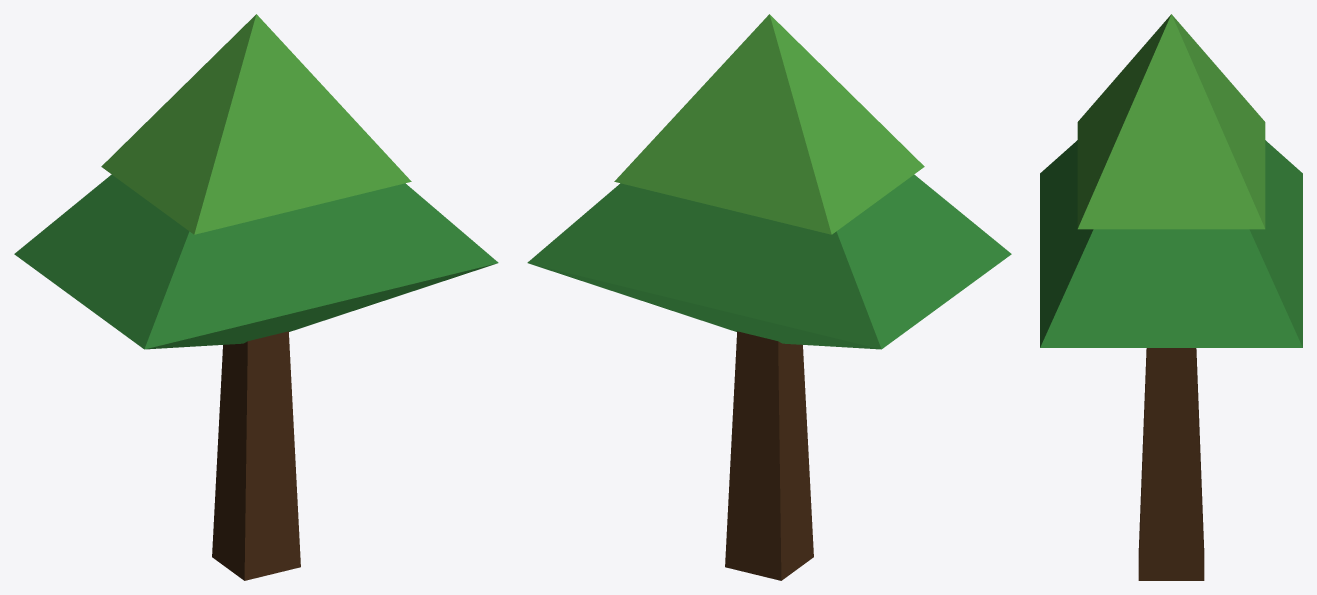
File: deciduous-tree.obj
3 views of the same model, side by side, from view 1: azimuth 30°, elevation 25°; view 2: azimuth 150°, elevation 25°; view 3: azimuth 270°, elevation 25° (orthographic).
Visible parts, largest first — view 1: Canopy, CrownHighlight, Trunk; view 2: Canopy, CrownHighlight, Trunk; view 3: Canopy, CrownHighlight, Trunk.
Part boxes in pixels (x1,y1,x2,y2): Canopy: (14,174,498,349); CrownHighlight: (101,14,411,234); Trunk: (212,331,300,580); Canopy: (527,174,1011,349); CrownHighlight: (614,14,924,234); Trunk: (725,331,813,580); Canopy: (1040,140,1302,347); CrownHighlight: (1077,14,1265,229); Trunk: (1138,348,1204,580).
Bounding box in the file's own units: 4.4 × 6.5 × 2.8.
